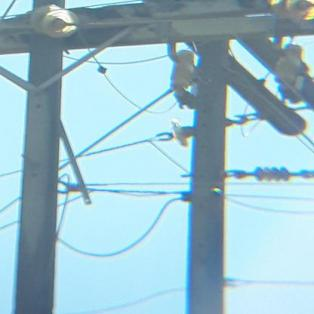Poste: (7, 0, 95, 314)
